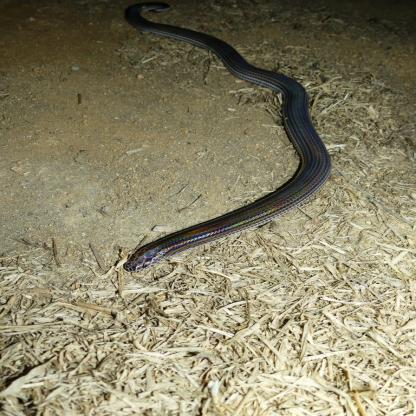Snake: (92, 2, 334, 272)
